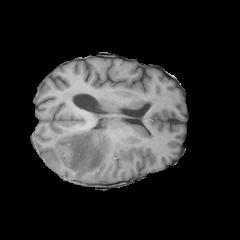glioma: (44, 128, 121, 179)
